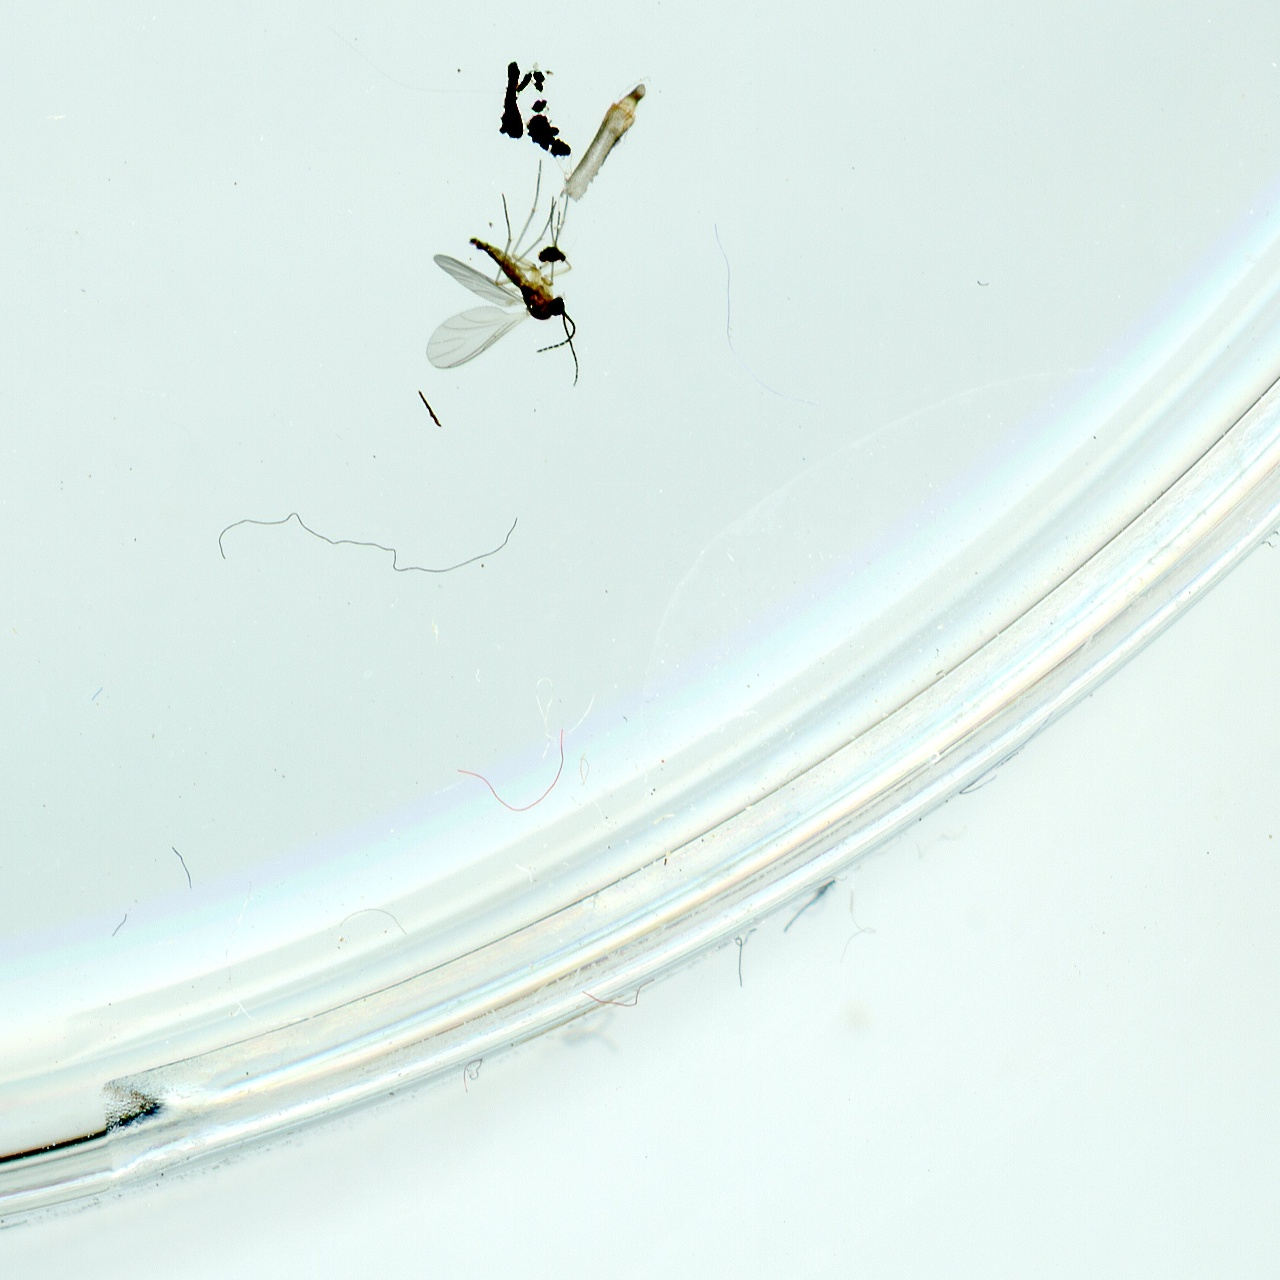arthropod: (418, 151, 588, 391)
